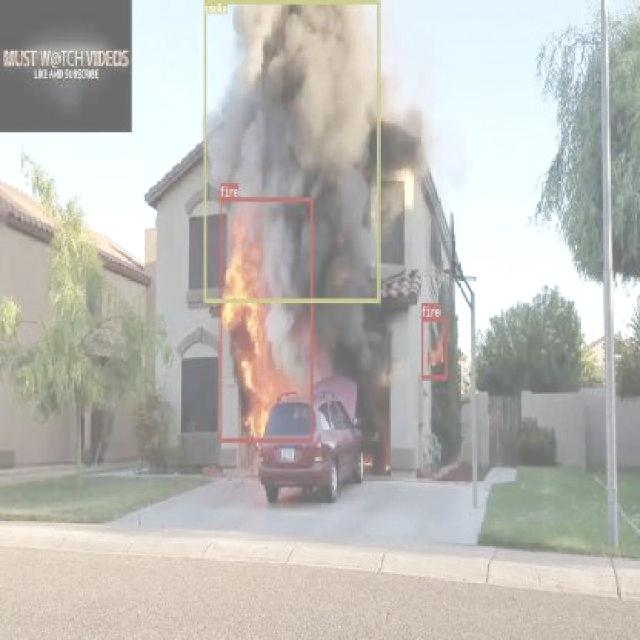fire: (219, 196, 312, 442), (422, 316, 446, 378)
smoke: (204, 0, 378, 302)
